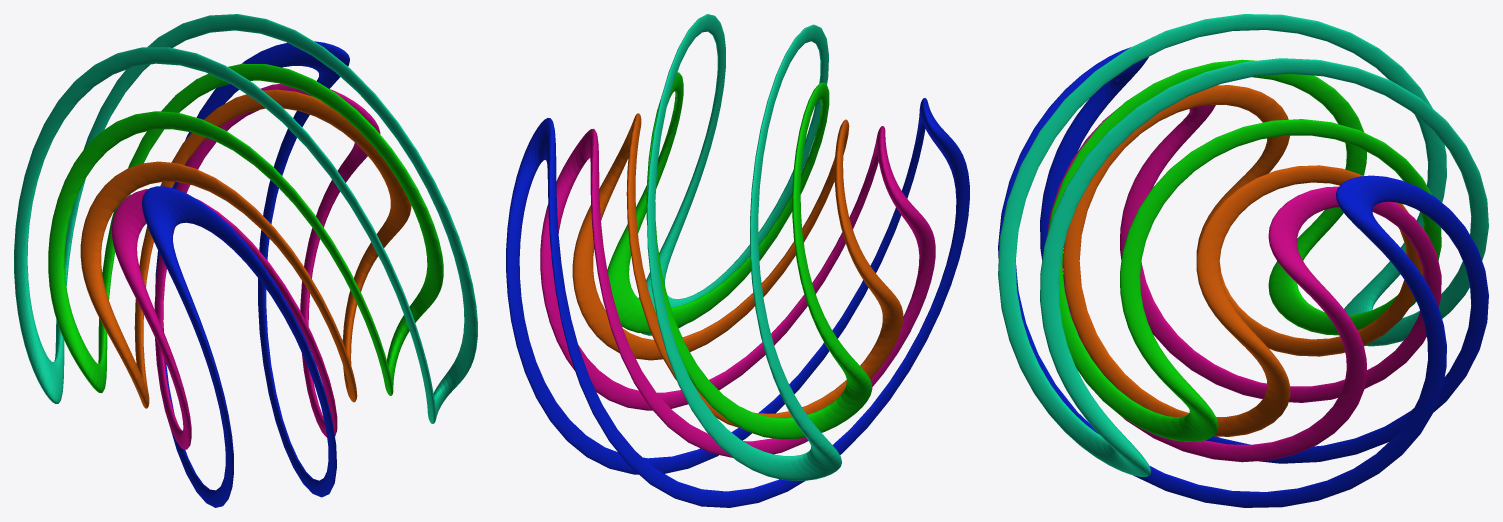
The model's file is colors.obj.
The picture shows the model from 3 angles, left to right: view 1: azimuth 30°, elevation 25°; view 2: azimuth 150°, elevation 25°; view 3: azimuth 270°, elevation 25°; orthographic projection.
Parts seen in each view (by area): view 1: Torus; view 2: Torus; view 3: Torus.
Part boxes in pixels (box(x1,y1,x2,y2)): Torus: box(14, 14, 477, 507); Torus: box(506, 14, 969, 507); Torus: box(998, 14, 1488, 507).
Size of the model in its own units: 4.2 by 5.7 by 5.7.
